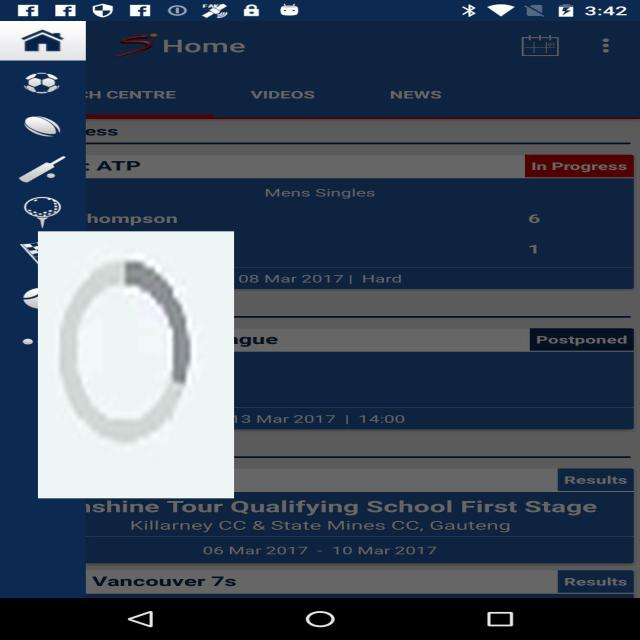misdirection: (38, 232, 234, 498)
